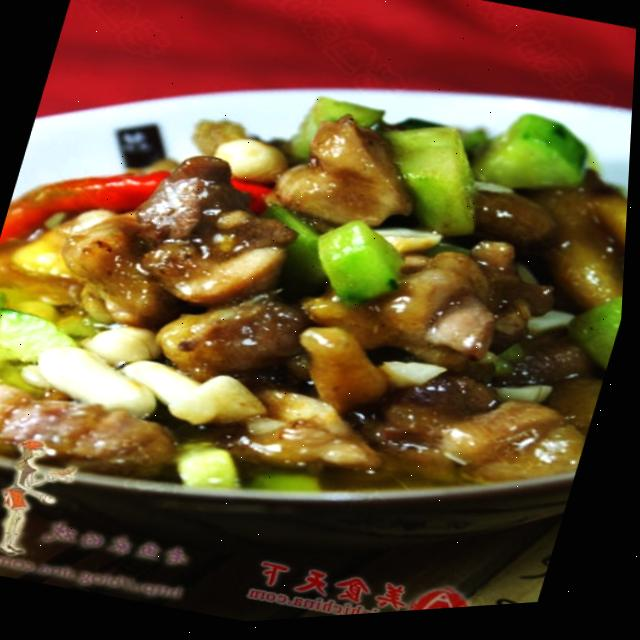鸡肉料理 含炸鸡: (0, 29, 637, 559)
